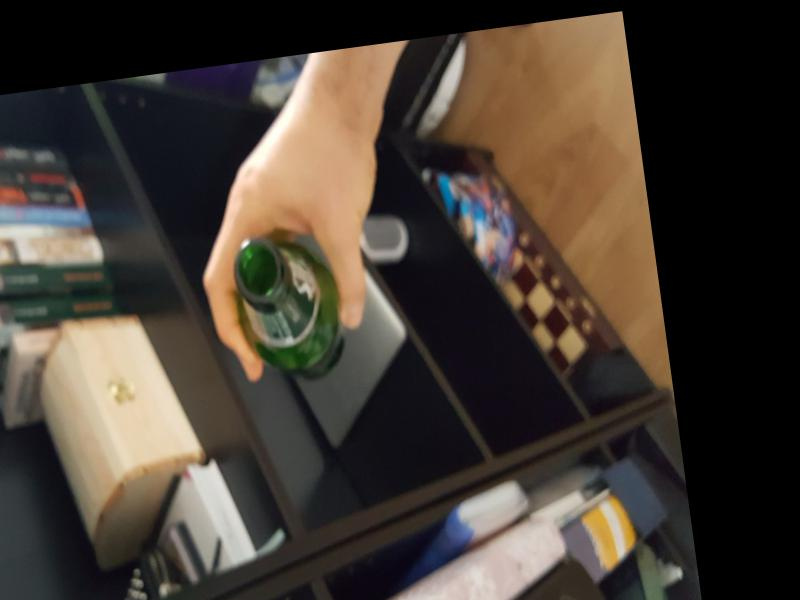Beer: (231, 225, 355, 387)
